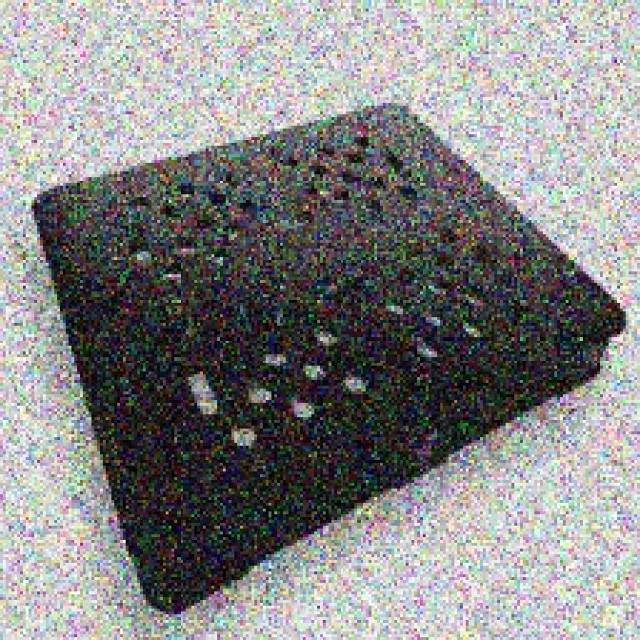igps: (28, 95, 631, 618)
